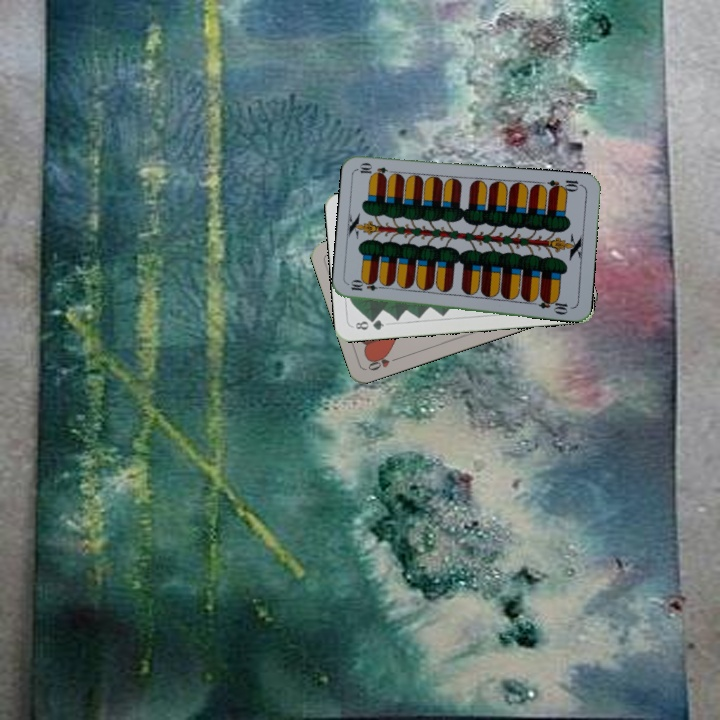E10: (544, 176, 585, 195), (347, 279, 387, 293)
G8: (351, 315, 387, 333)
HO: (364, 351, 403, 373)
